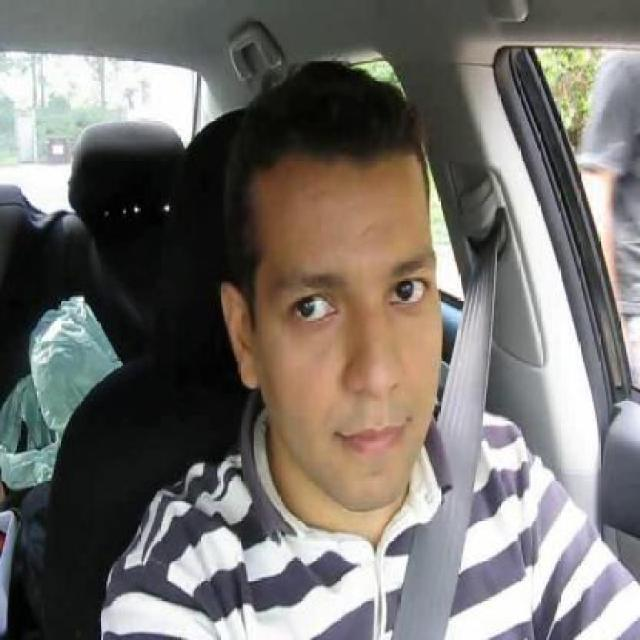awake: (289, 290, 337, 325), (388, 276, 426, 309)
